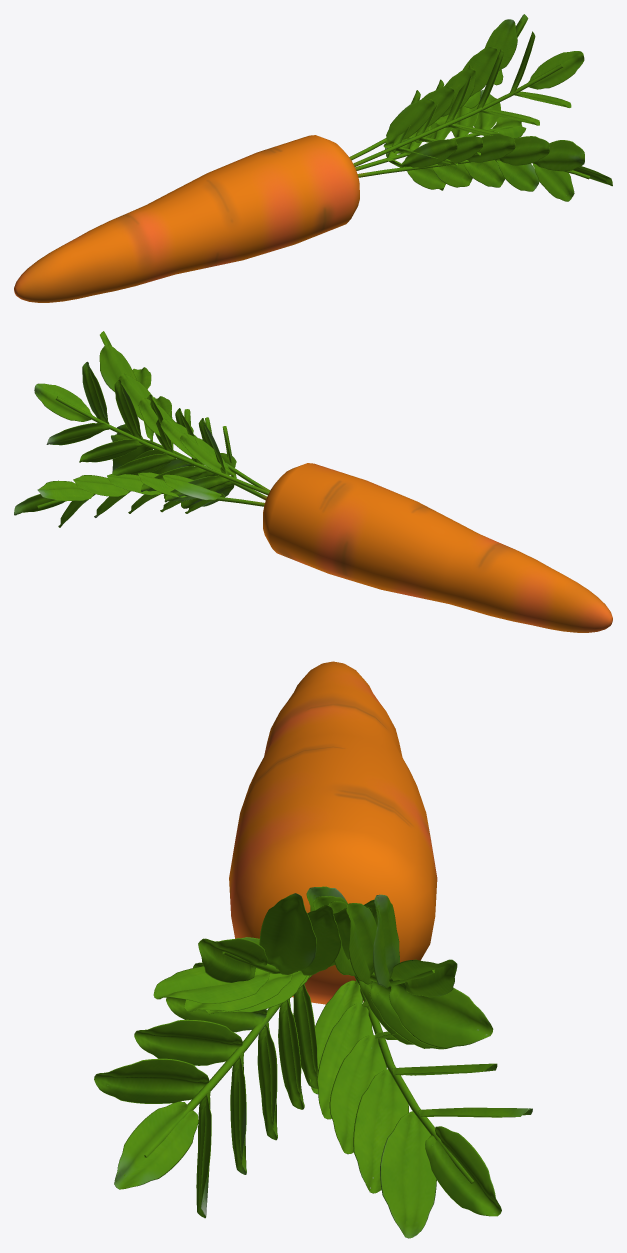
The model's file is carrot3.fbx.
3 renders of one model, top to bottom at view 1: azimuth 30°, elevation 25°; view 2: azimuth 150°, elevation 25°; view 3: azimuth 270°, elevation 25°, orthographic. The views are drawn at different scales.
Parts seen in each view (by area): view 1: carrot3; view 2: carrot3; view 3: carrot3.
Part boxes in pixels (bbox=[...]): carrot3: bbox=[14, 14, 612, 302]; carrot3: bbox=[14, 331, 612, 632]; carrot3: bbox=[94, 661, 532, 1238].
Bounding box in the file's own units: 0.9747 × 0.2784 × 0.3374.
Materials: 1 (1 with a texture image).
